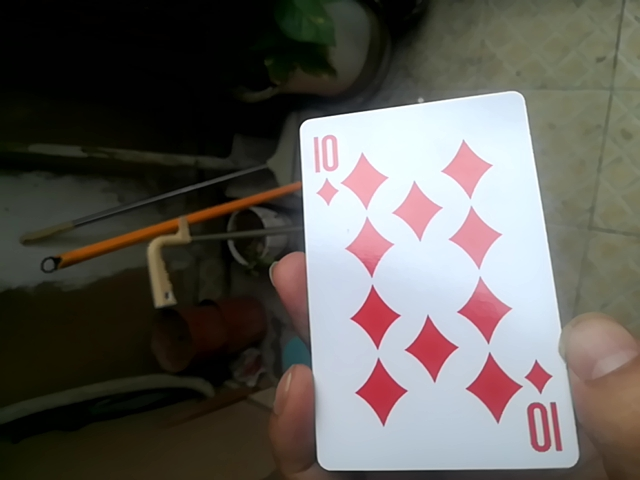fk 10: (300, 96, 565, 469)
